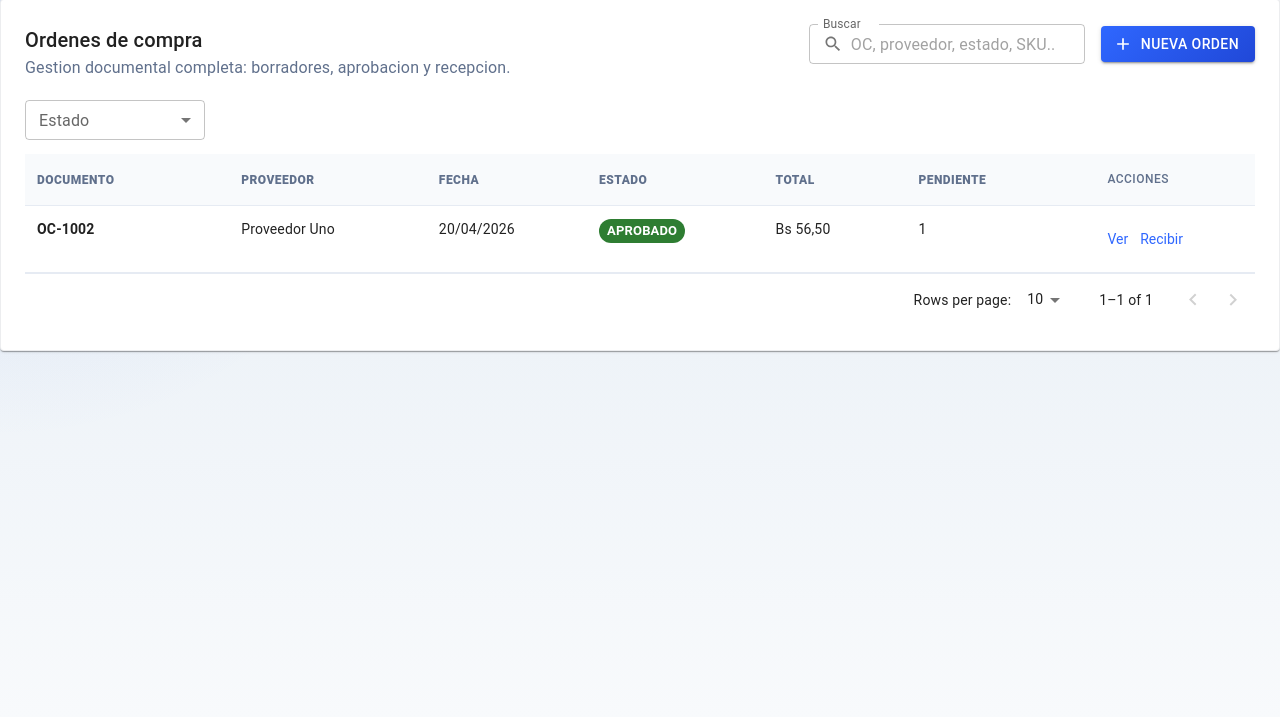
Scenario: OrdenesScreen UI › abre la recepcion desde el detalle y permite ajustar la fecha antes de cancelar
Click the button "Ver".
click(1118, 239)  # box [1107,219,1128,259]
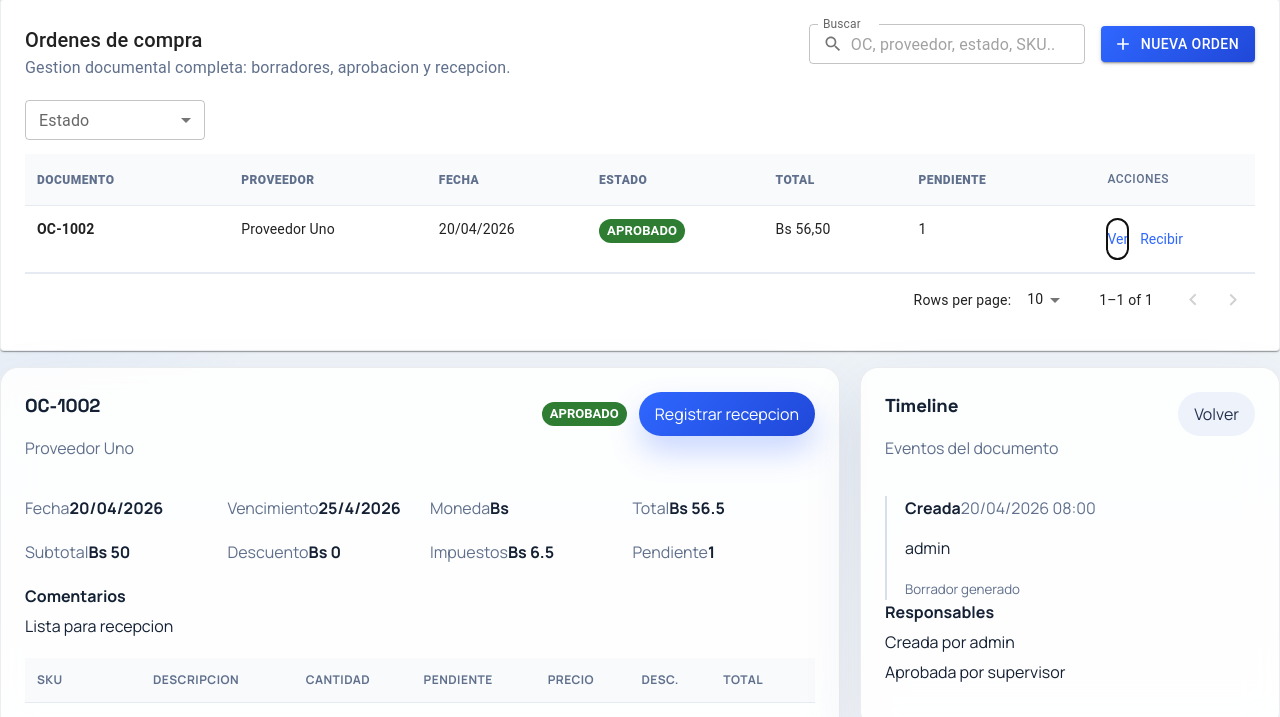
Click the button "Registrar recepcion".
click(727, 414)  # box [639,392,815,436]
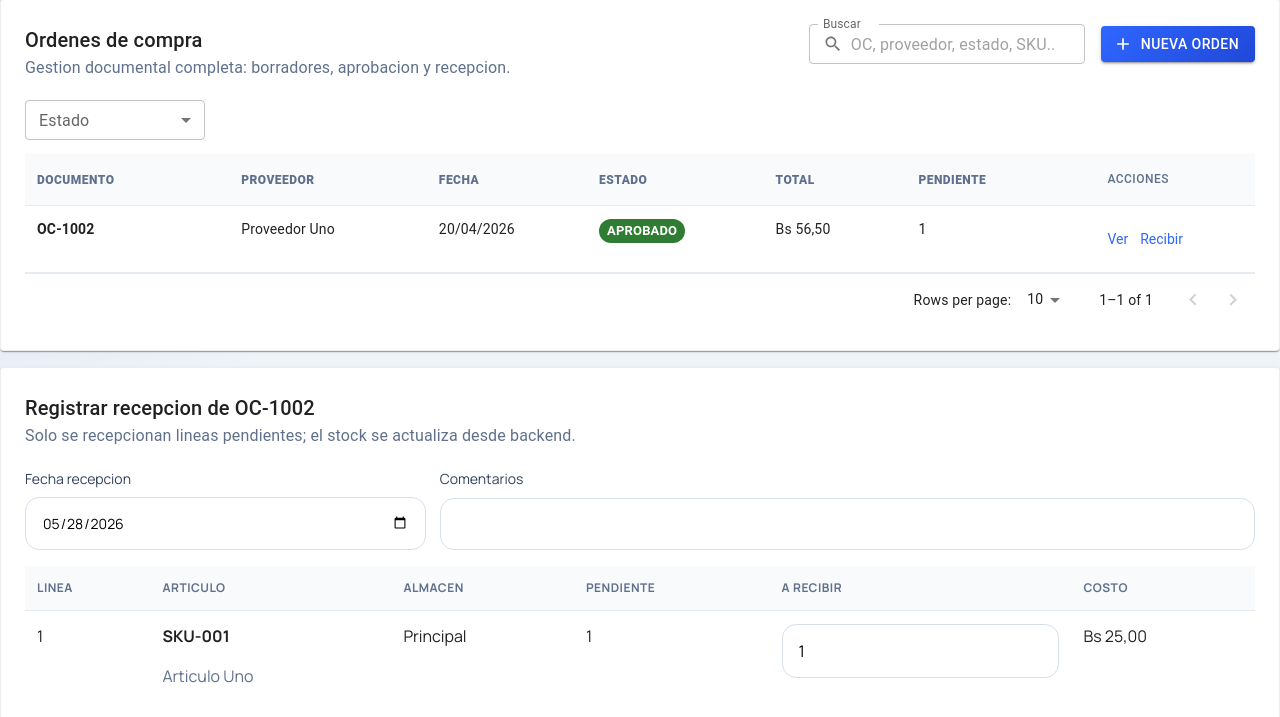
Type "2026-04-22" into the date field labelled "Fecha recepcion".
click(225, 523); type("2026-04-22")  # box [25,497,426,550]
(page scrolled)
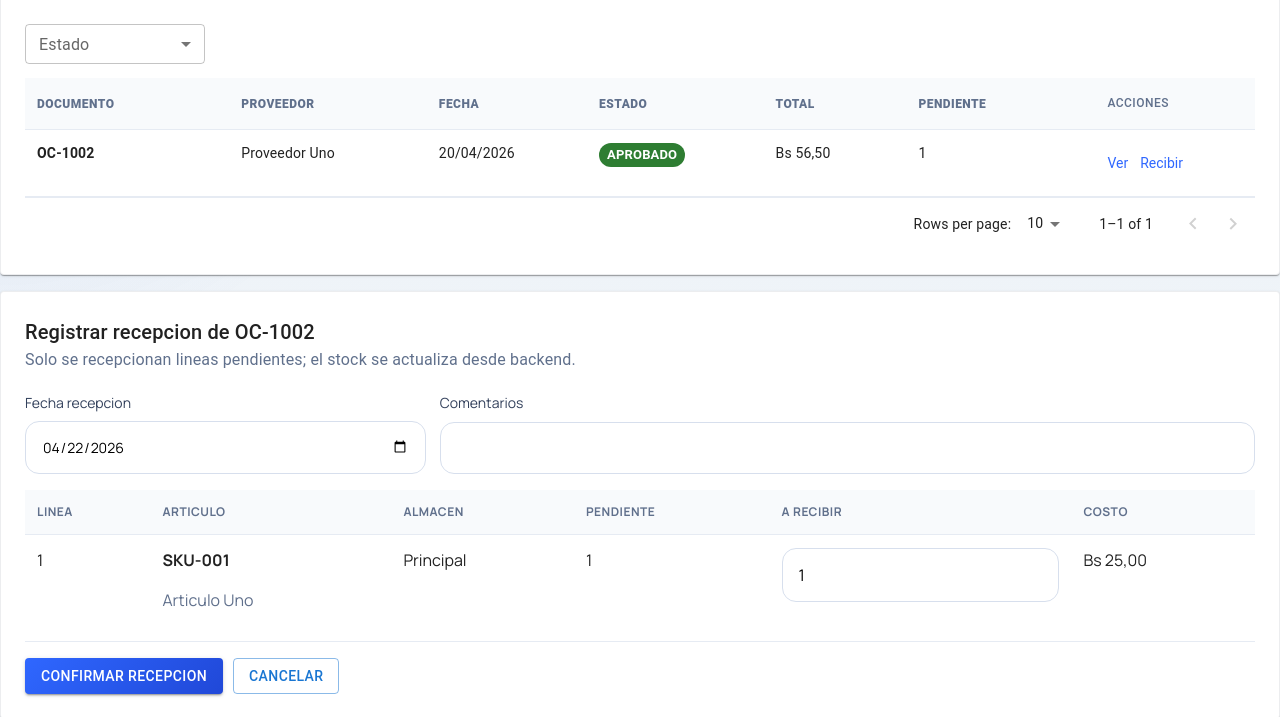
Click the button "Cancelar".
click(286, 676)  # box [233,658,339,694]
(page scrolled)
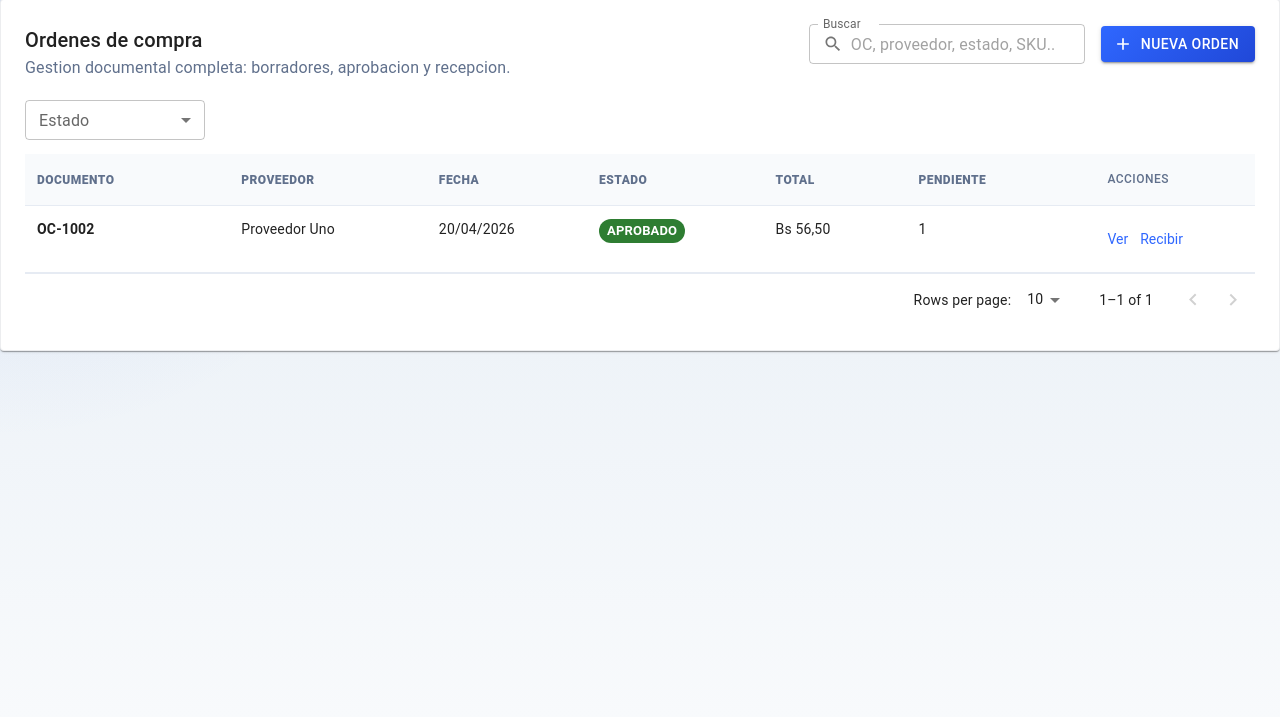
Now the button "Confirmar recepcion" is gone
